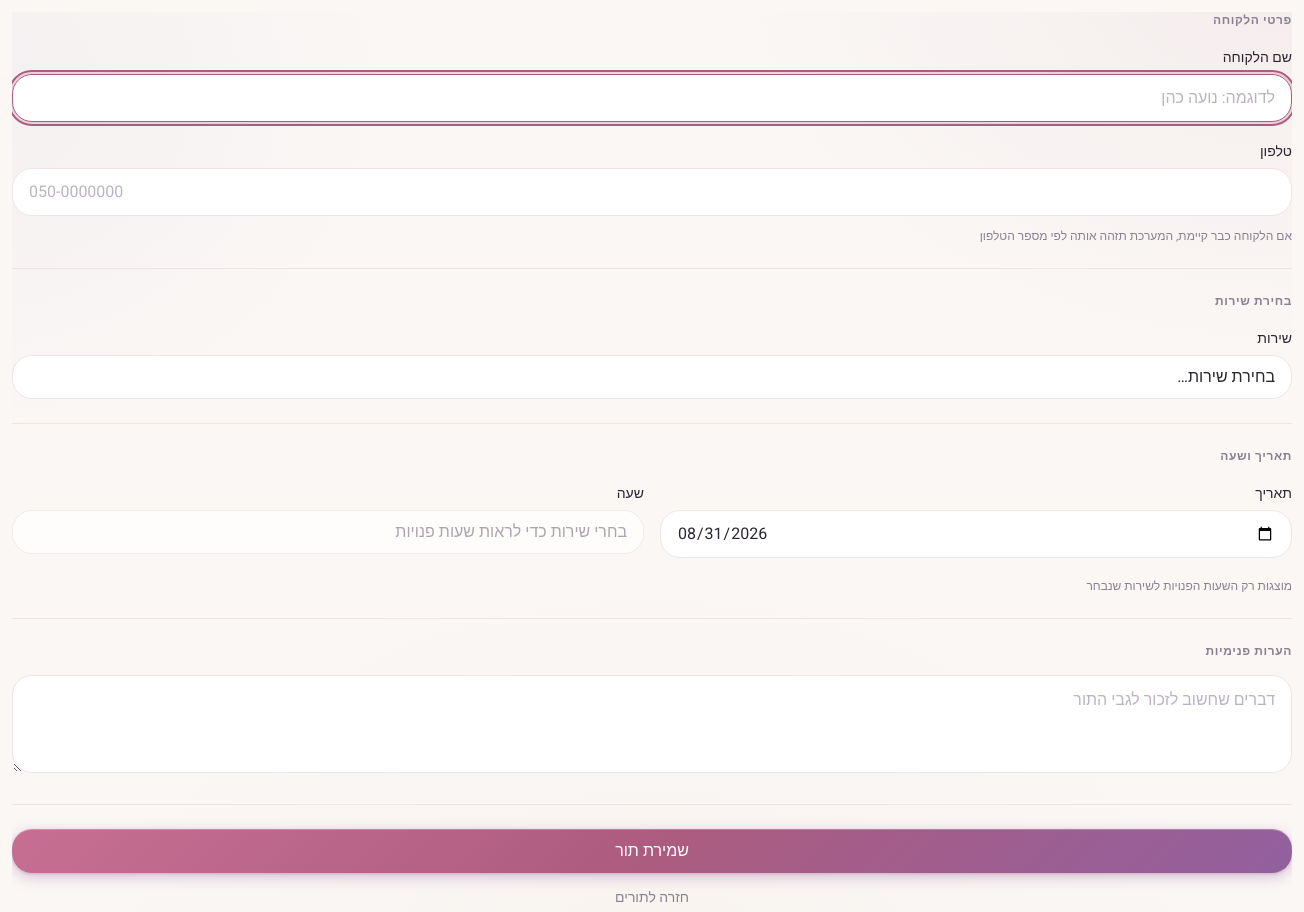
Test: BookingForm — submission + server state › renders the form-level error and re-fills fields from server state
The image size is (1304, 912).
Click the button "שמירת תור" at x=652, y=851, box [12,829,1292,873]
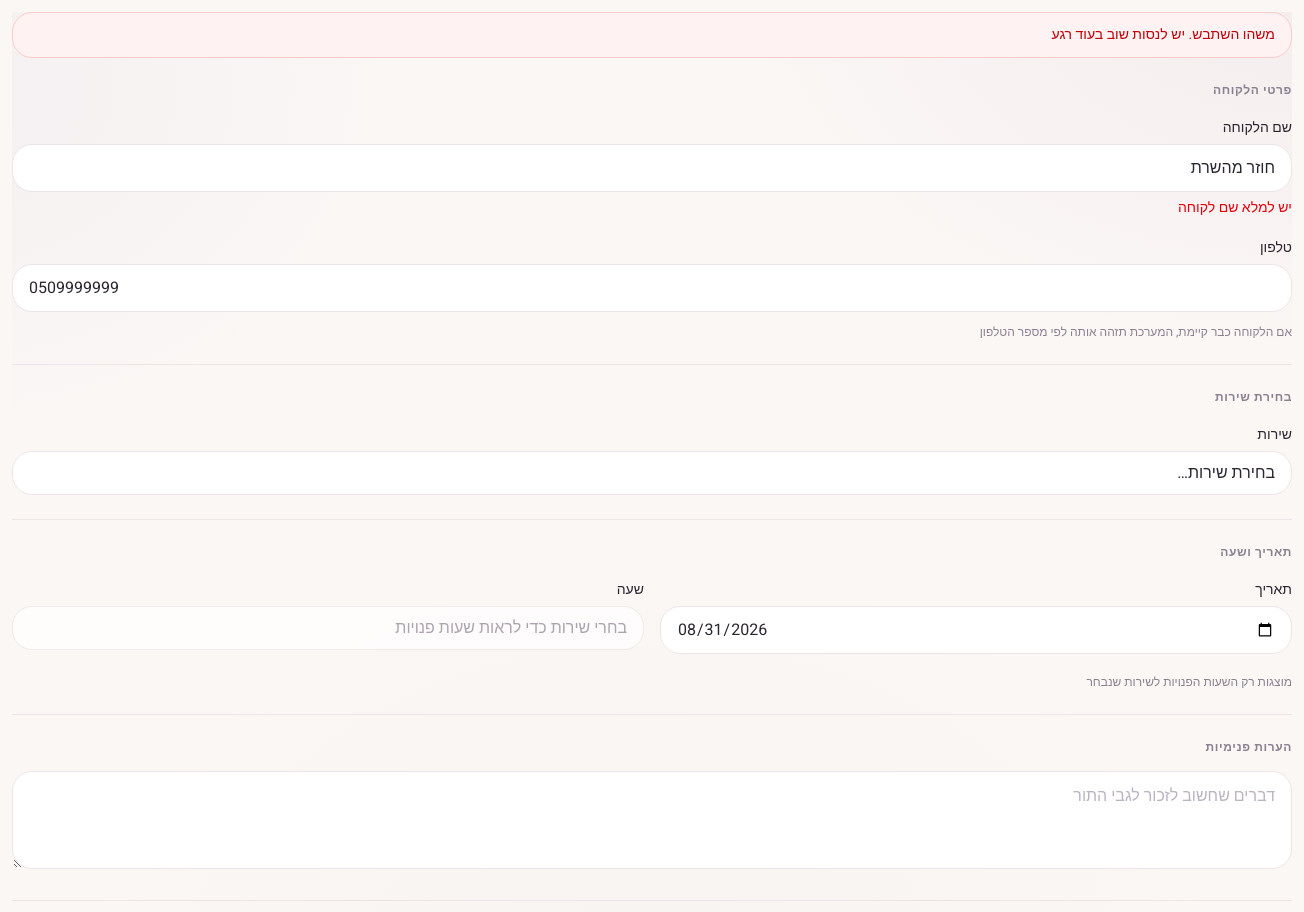
Expected: the text "משהו השתבש. יש לנסות שוב בעוד רגע" is shown, [12,12,1292,58]
Expected: the text "יש למלא שם לקוחה" is shown, [1178,197,1292,218]
Expected: the field labelled "שם הלקוחה" holds "חוזר מהשרת", [12,144,1292,192]
